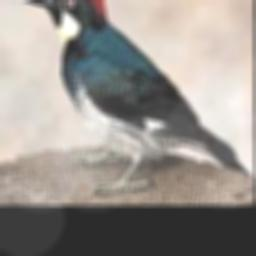Woodpecker: (18, 0, 251, 192)
